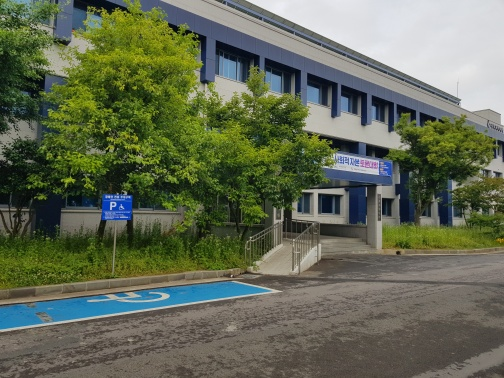College of Social Sciences: (28, 7, 503, 239), (274, 140, 391, 257), (290, 51, 402, 132)
